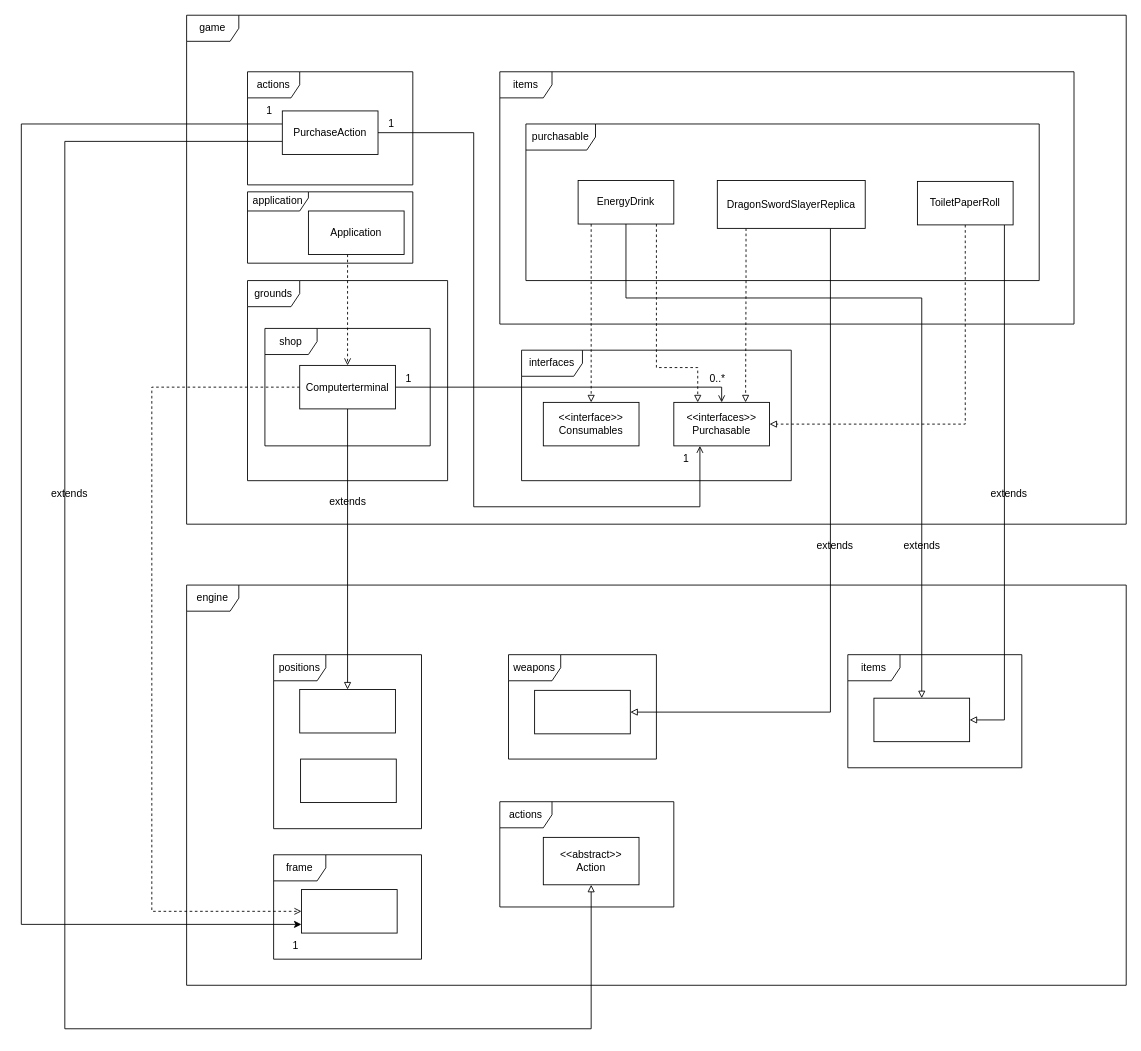
This 1141x1051 diagram has some shape labels left out. Each missing label, with the centre of its shape:
"<<abstract>> Actor" goes at point 349,911.
"<<abstract>> Ground" goes at point 347,711.
"<<abstract>> item" goes at point 921,719.
"<<abstract>> WeaponItem" goes at point 582,711.
"Locations" goes at point 348,780.
